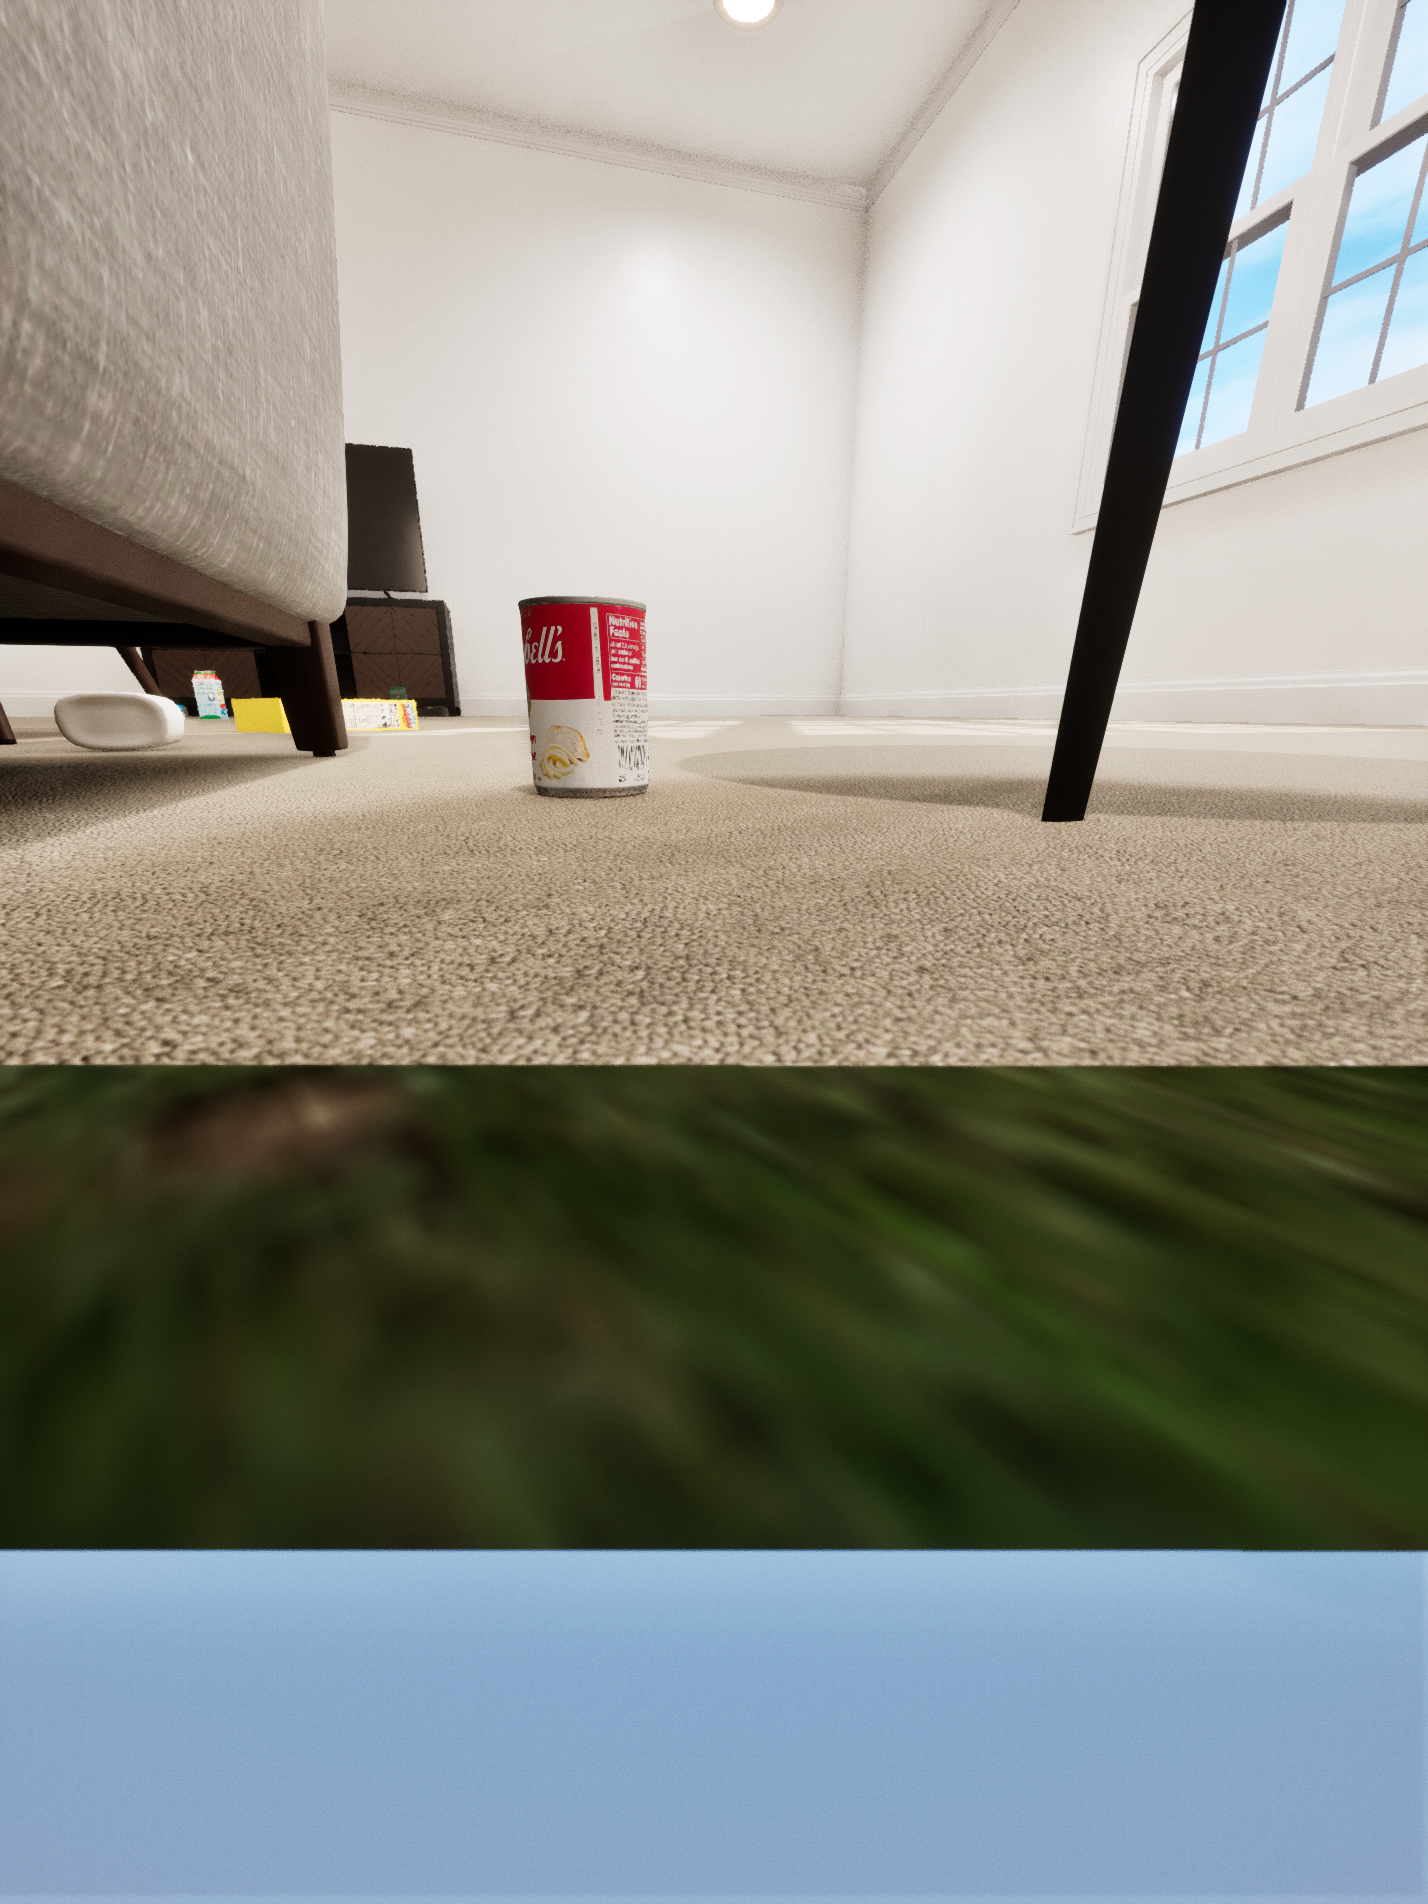cheerios: (784, 748, 933, 1063)
